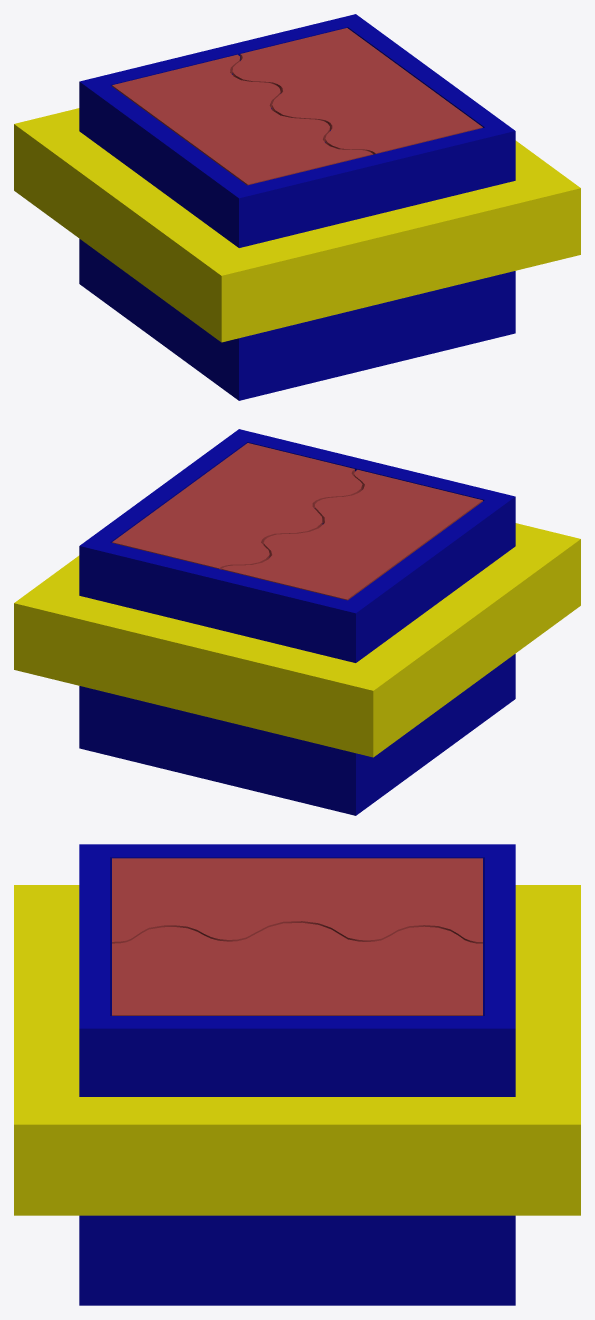
Rendered from BM_Platform_DoorUp.fbx.
3 views of the same model, one above another, from view 1: azimuth 30°, elevation 25°; view 2: azimuth 150°, elevation 25°; view 3: azimuth 270°, elevation 25° (orthographic). The views are drawn at different scales.
Visible parts, largest first — view 1: BM_Platform_Obstacle03_001, BM_Platform_Obstacle03_Emissive_001, BM_Platform_Obstacle03_DoorR_001, BM_Platform_Obstacle03_DoorL_001; view 2: BM_Platform_Obstacle03_001, BM_Platform_Obstacle03_Emissive_001, BM_Platform_Obstacle03_DoorR_001, BM_Platform_Obstacle03_DoorL_001; view 3: BM_Platform_Obstacle03_Emissive_001, BM_Platform_Obstacle03_001, BM_Platform_Obstacle03_DoorR_001, BM_Platform_Obstacle03_DoorL_001.
Part boxes in pixels (x1,y1,x2,y2): BM_Platform_Obstacle03_001: (79, 14, 515, 400); BM_Platform_Obstacle03_Emissive_001: (14, 108, 580, 342); BM_Platform_Obstacle03_DoorR_001: (232, 28, 482, 154); BM_Platform_Obstacle03_DoorL_001: (112, 54, 373, 185); BM_Platform_Obstacle03_001: (79, 429, 515, 815); BM_Platform_Obstacle03_Emissive_001: (14, 523, 580, 757); BM_Platform_Obstacle03_DoorR_001: (112, 443, 362, 569); BM_Platform_Obstacle03_DoorL_001: (221, 469, 482, 600); BM_Platform_Obstacle03_Emissive_001: (14, 885, 580, 1215); BM_Platform_Obstacle03_001: (79, 844, 515, 1305); BM_Platform_Obstacle03_DoorR_001: (112, 922, 482, 1015); BM_Platform_Obstacle03_DoorL_001: (112, 858, 482, 943).
Bounding box in the file's own units: 260 × 140 × 260.
